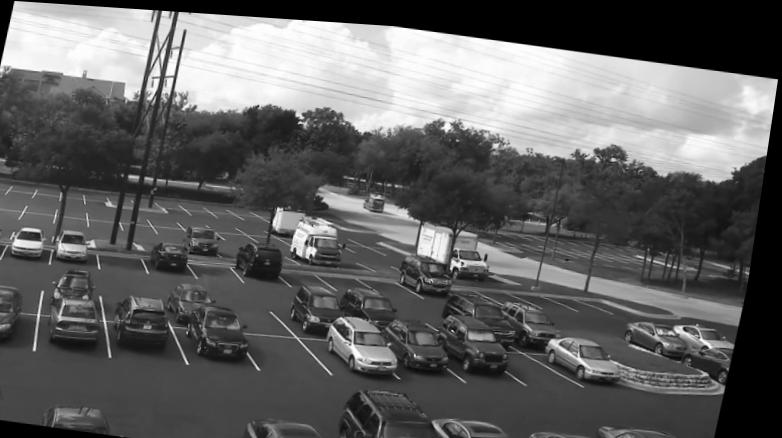empty: (259, 327, 344, 368), (134, 407, 234, 438), (517, 342, 589, 380), (243, 295, 289, 323), (106, 249, 159, 271), (0, 267, 50, 290), (551, 287, 618, 304), (372, 272, 427, 290), (326, 268, 379, 286), (116, 279, 158, 300), (200, 260, 248, 278), (413, 298, 454, 318), (526, 287, 580, 302), (344, 233, 389, 248), (292, 263, 335, 278), (25, 210, 64, 226), (0, 196, 34, 211), (486, 283, 532, 294), (61, 213, 94, 228), (91, 217, 131, 229), (127, 220, 167, 232), (0, 206, 31, 221), (163, 196, 194, 210), (121, 210, 156, 222), (64, 189, 93, 203), (227, 239, 255, 253), (226, 229, 264, 239), (153, 211, 187, 222), (258, 230, 295, 240), (32, 201, 65, 212), (192, 202, 221, 214), (183, 212, 214, 223), (62, 205, 96, 215), (40, 186, 68, 198), (89, 191, 117, 203), (95, 206, 125, 217), (215, 216, 248, 226), (17, 184, 41, 197), (244, 219, 277, 228), (148, 235, 171, 247), (160, 222, 192, 230), (218, 205, 246, 214), (242, 207, 272, 215), (0, 216, 19, 227), (0, 184, 15, 193)
occupied: (342, 381, 453, 438), (326, 309, 408, 368), (446, 307, 519, 367), (390, 312, 463, 366), (192, 300, 259, 355), (554, 328, 631, 374), (120, 291, 182, 348), (407, 247, 466, 293), (343, 281, 407, 323), (297, 211, 349, 262), (635, 311, 700, 351), (59, 294, 110, 344), (298, 280, 352, 327), (513, 294, 567, 338), (243, 413, 338, 438), (453, 286, 520, 320), (442, 411, 524, 438), (241, 239, 290, 284), (54, 401, 121, 432), (0, 283, 35, 340), (611, 416, 701, 438), (177, 279, 221, 321), (691, 336, 742, 372), (539, 423, 625, 438), (157, 238, 194, 271), (0, 369, 23, 419), (191, 222, 230, 251), (64, 229, 97, 259), (19, 226, 52, 256), (65, 268, 98, 296)
